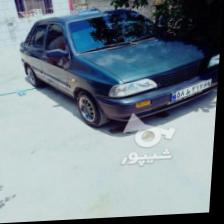plate: (172, 80, 213, 104)
